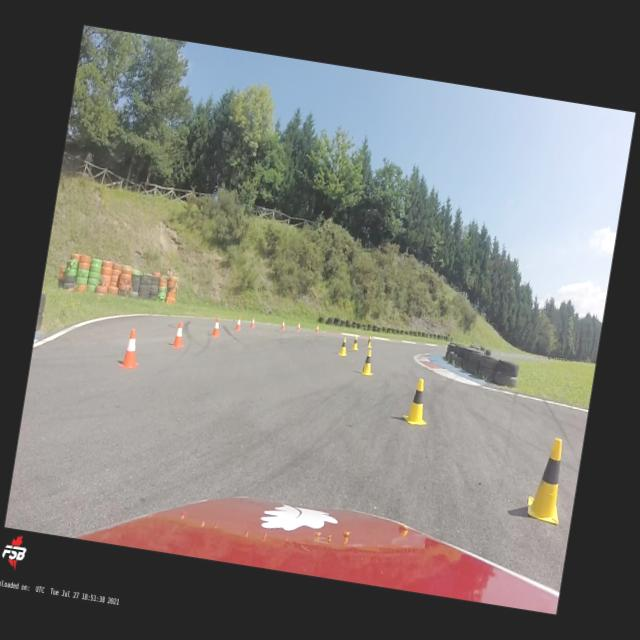orange_cone: (118, 328, 144, 370), (172, 321, 188, 350), (211, 317, 223, 338), (235, 316, 243, 331), (250, 316, 256, 329), (280, 320, 286, 331), (296, 322, 302, 332), (316, 324, 320, 334)
yellow_cone: (525, 436, 572, 525), (402, 377, 434, 427), (360, 348, 377, 376), (338, 336, 349, 357), (351, 335, 361, 351), (366, 335, 374, 348)
